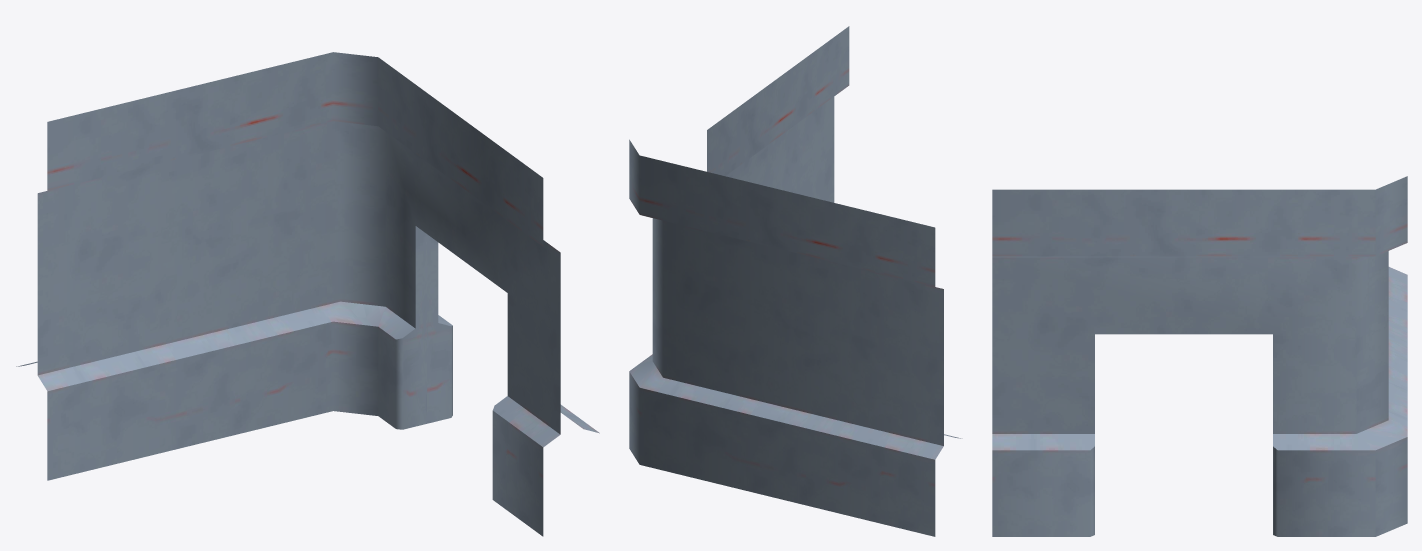
The model's file is Wall_CornerDoor_B_1_F.glb.
3 views of the same model, side by side, from view 1: azimuth 30°, elevation 25°; view 2: azimuth 150°, elevation 25°; view 3: azimuth 270°, elevation 25° (orthographic). The views are drawn at different scales.
Parts seen in each view (by area): view 1: Wall_CornerDoor_B_1_F; view 2: Wall_CornerDoor_B_1_F; view 3: Wall_CornerDoor_B_1_F.
Boxes of the visible parts, left/top/right/bottom form: Wall_CornerDoor_B_1_F: left=16, top=52, right=599, bottom=536; Wall_CornerDoor_B_1_F: left=629, top=26, right=962, bottom=536; Wall_CornerDoor_B_1_F: left=992, top=176, right=1407, bottom=536.
Size of the model in its own units: 6.5 by 6 by 6.5.
1 material, 1 textured.
